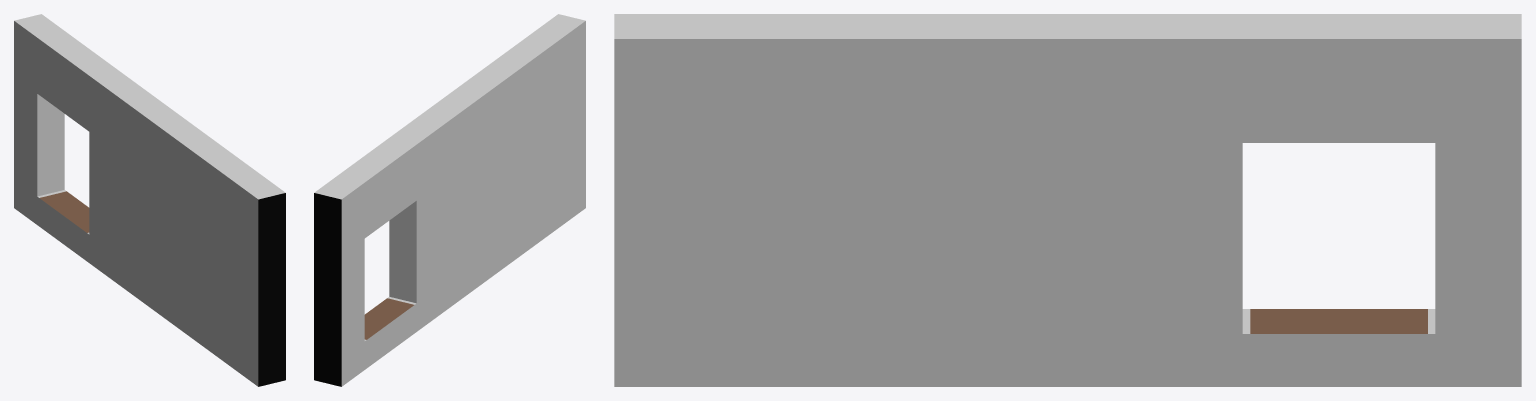
File: door_wall.glb
3 views of the same model, side by side, from view 1: azimuth 30°, elevation 25°; view 2: azimuth 150°, elevation 25°; view 3: azimuth 270°, elevation 25° (orthographic). The views are drawn at different scales.
Parts seen in each view (by area): view 1: DoorWallMesh; view 2: DoorWallMesh; view 3: DoorWallMesh.
Boxes of the visible parts, x1,y1,x2,y2 form: DoorWallMesh: (14, 14, 285, 386); DoorWallMesh: (314, 14, 585, 386); DoorWallMesh: (614, 14, 1521, 386).
Bounding box in the file's own units: 0.6119 × 3.98 × 9.41.
